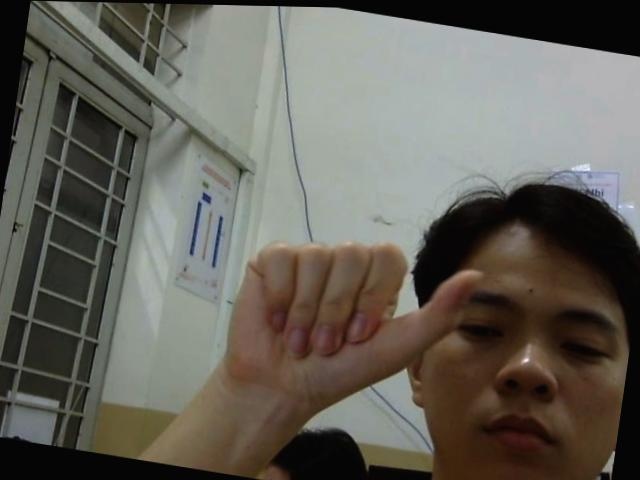A: (221, 219, 484, 419)
